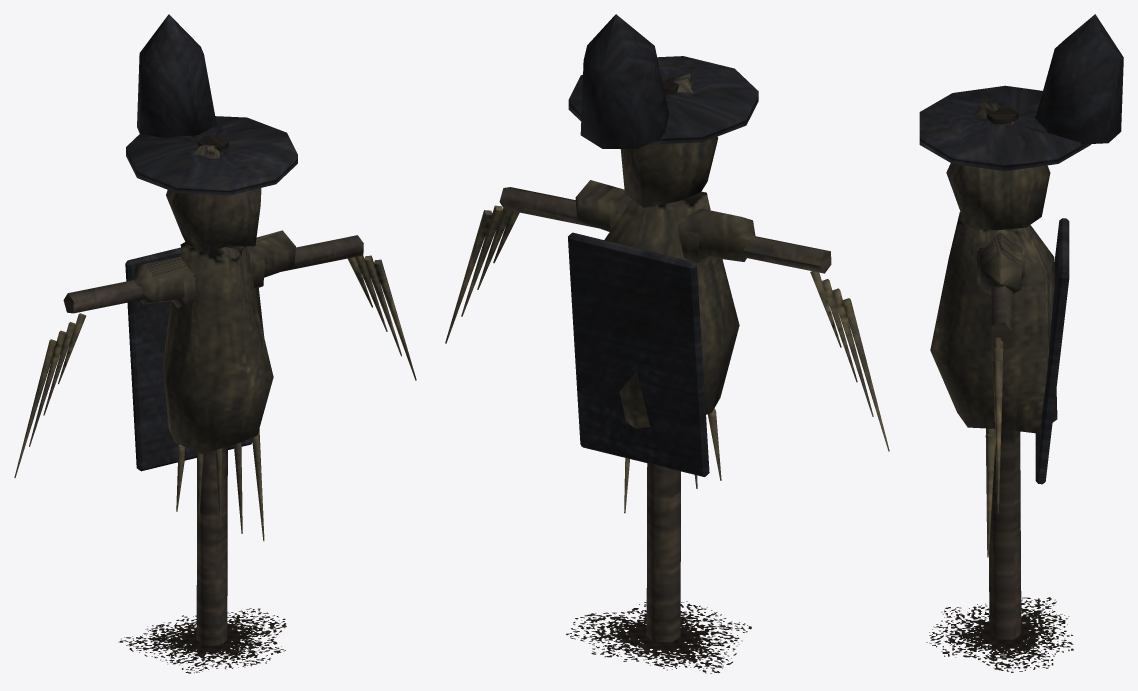
Rendered from scarecrow.glb.
The picture shows the model from 3 angles, left to right: view 1: azimuth 30°, elevation 25°; view 2: azimuth 150°, elevation 25°; view 3: azimuth 270°, elevation 25°; orthographic projection. The views are drawn at different scales.
Parts seen in each view (by area): view 1: scarecrow; view 2: scarecrow; view 3: scarecrow.
Part boxes in pixels (left/top/right/bottom): scarecrow: left=14, top=14, right=416, bottom=673; scarecrow: left=445, top=14, right=889, bottom=673; scarecrow: left=919, top=14, right=1123, bottom=672.
Bounding box in the file's own units: 1.3 × 1.85 × 0.5514.
Materials: 2 (2 with a texture image).
